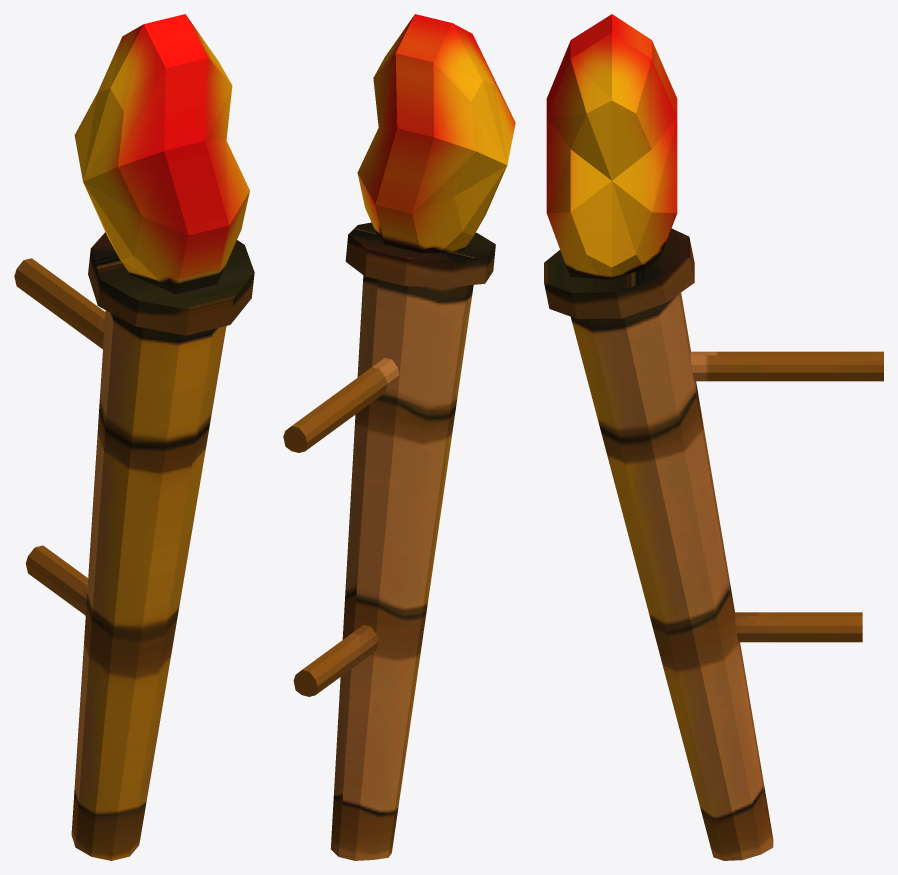
The model's file is Torch.glb.
The picture shows the model from 3 angles, left to right: view 1: azimuth 30°, elevation 25°; view 2: azimuth 150°, elevation 25°; view 3: azimuth 270°, elevation 25°; orthographic projection. The views are drawn at different scales.
Parts seen in each view (by area): view 1: Torch; view 2: Torch; view 3: Torch.
Boxes of the visible parts, x1,y1,x2,y2 form: Torch: (14, 14, 254, 860); Torch: (283, 14, 515, 860); Torch: (544, 14, 883, 860).
Size of the model in its own units: 31.28 by 161 by 60.05.
Materials: 1 (1 with a texture image).
